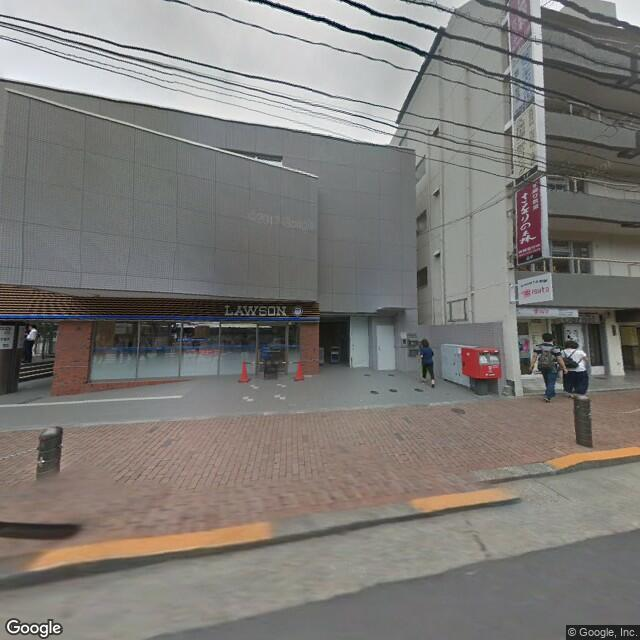lawson: (214, 298, 305, 325)
